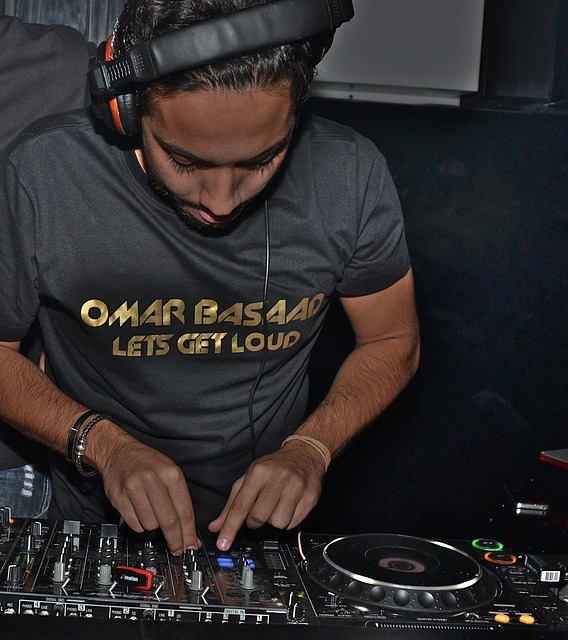headphones: (88, 1, 356, 138)
